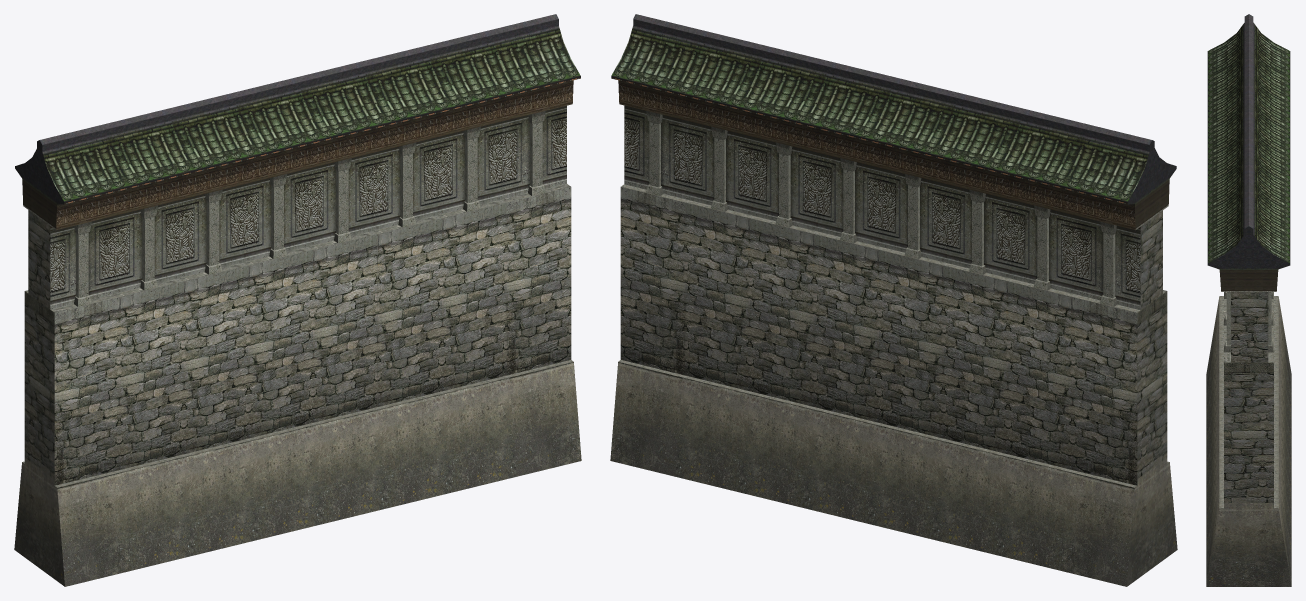
File: c1-middledam-02.fbx
The picture shows the model from 3 angles, left to right: view 1: azimuth 30°, elevation 25°; view 2: azimuth 150°, elevation 25°; view 3: azimuth 270°, elevation 25°; orthographic projection. The views are drawn at different scales.
Visible parts, largest first — view 1: b1-middledam-02; view 2: b1-middledam-02; view 3: b1-middledam-02.
Part boxes in pixels (x1,y1,x2,y2): b1-middledam-02: [14, 14, 581, 586]; b1-middledam-02: [610, 14, 1177, 586]; b1-middledam-02: [1206, 14, 1291, 586].
Bounding box in the file's own units: 10 × 7.92 × 1.7.
